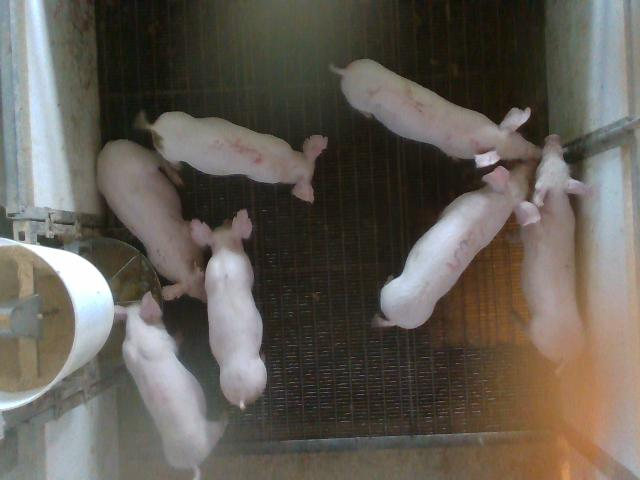pig-3: (374, 164, 540, 328)
pig-4: (115, 291, 226, 478)
pig-5: (136, 111, 327, 202)
